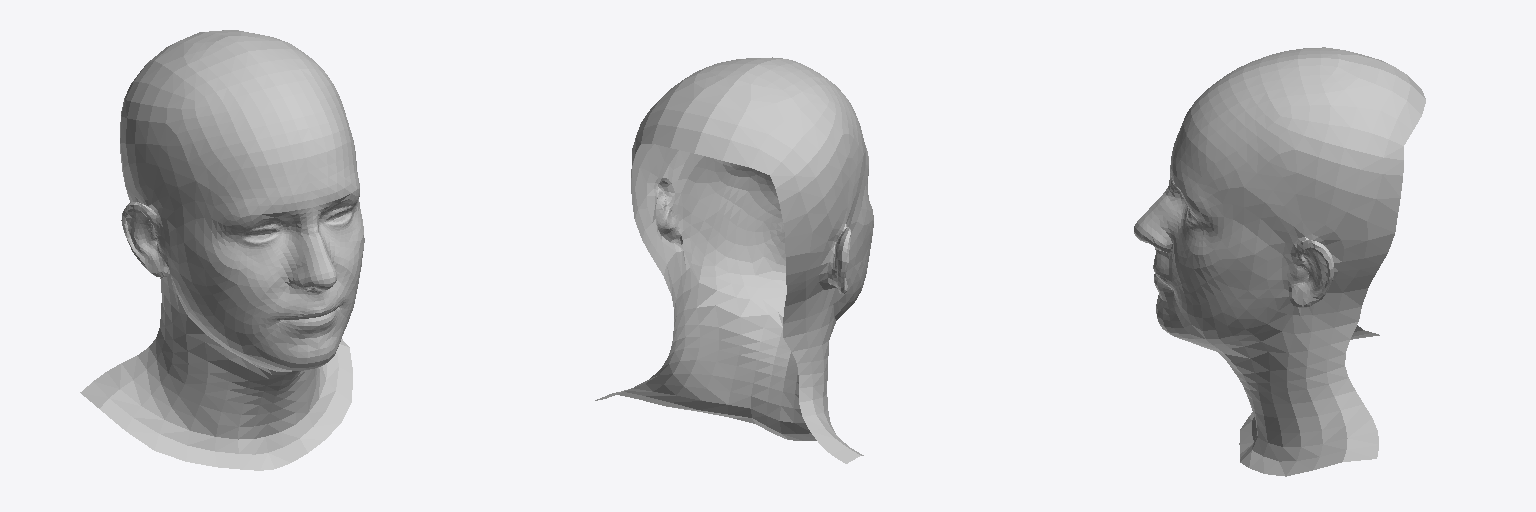
The model's file is flame_template_v2.obj.
3 renders of one model, left to right at view 1: azimuth 30°, elevation 25°; view 2: azimuth 150°, elevation 25°; view 3: azimuth 270°, elevation 25°, orthographic.
Parts seen in each view (by area): view 1: flame_template_v2_mesh_rameen; view 2: flame_template_v2_mesh_rameen; view 3: flame_template_v2_mesh_rameen.
Part boxes in pixels (x1,y1,x2,y2): flame_template_v2_mesh_rameen: (80, 30, 364, 470); flame_template_v2_mesh_rameen: (595, 57, 873, 463); flame_template_v2_mesh_rameen: (1134, 47, 1425, 476).
Size of the model in its own units: 0.2152 by 0.3215 by 0.2148.